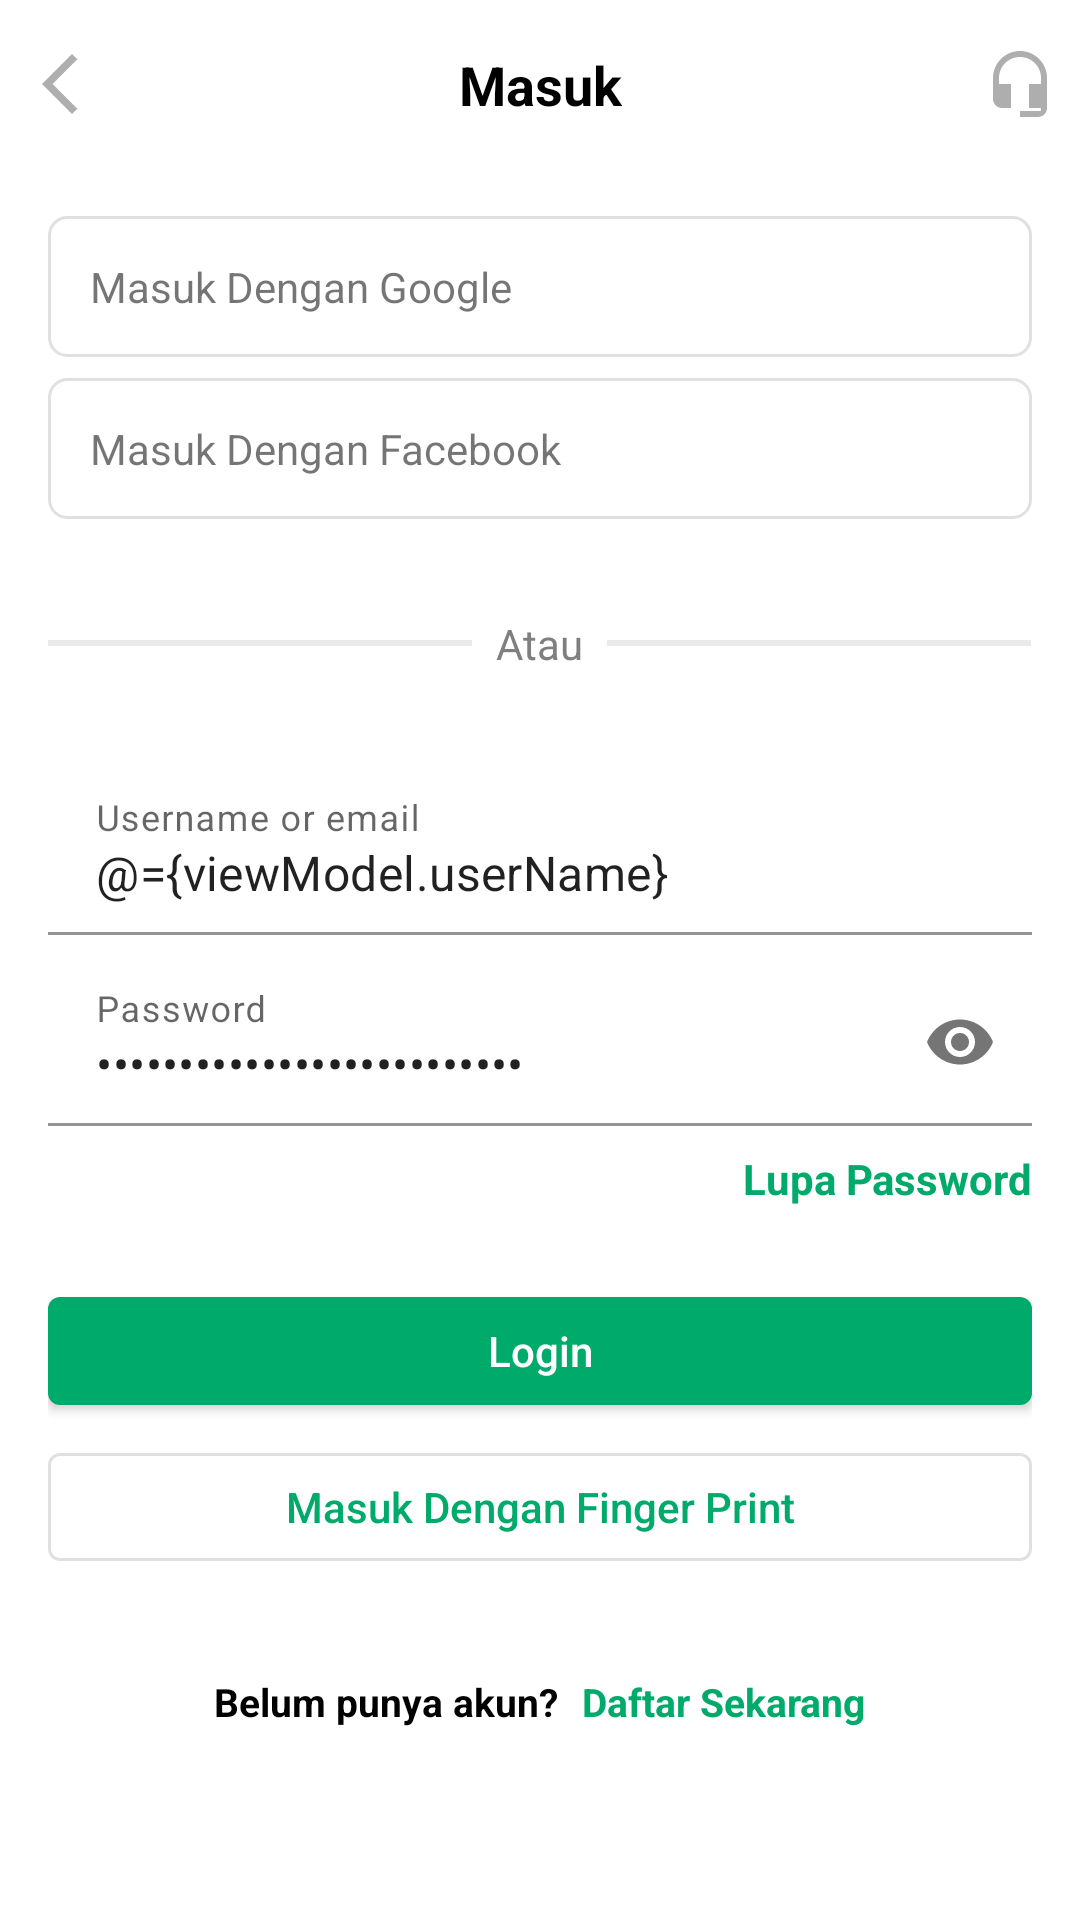

Where to tap for icons on this 1080*1920 app screen, as (x=x, y=y):
arrow back: (x=59, y=84)
headset mic: (x=1020, y=84)
